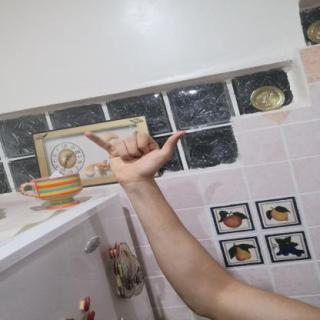YA: (74, 120, 195, 188)
